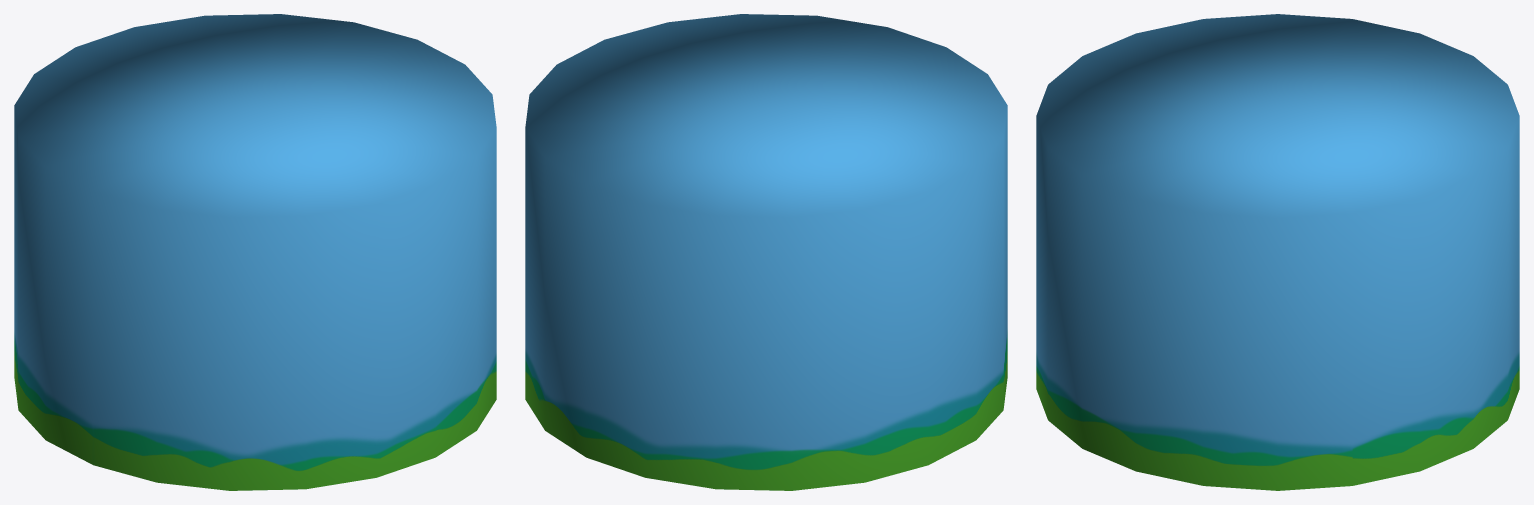
Rendered from CourseSpring_Box_Ambient.fbx.
The picture shows the model from 3 angles, left to right: view 1: azimuth 30°, elevation 25°; view 2: azimuth 150°, elevation 25°; view 3: azimuth 270°, elevation 25°; orthographic projection.
Parts seen in each view (by area): view 1: OBJ_Background; view 2: OBJ_Background; view 3: OBJ_Background.
Boxes of the visible parts, x1=… form: OBJ_Background: x1=14, y1=14, x2=496, y2=490; OBJ_Background: x1=525, y1=14, x2=1007, y2=490; OBJ_Background: x1=1036, y1=14, x2=1519, y2=490.
Bounding box in the file's own units: 904 × 563 × 904.
7 materials, 7 textured.
